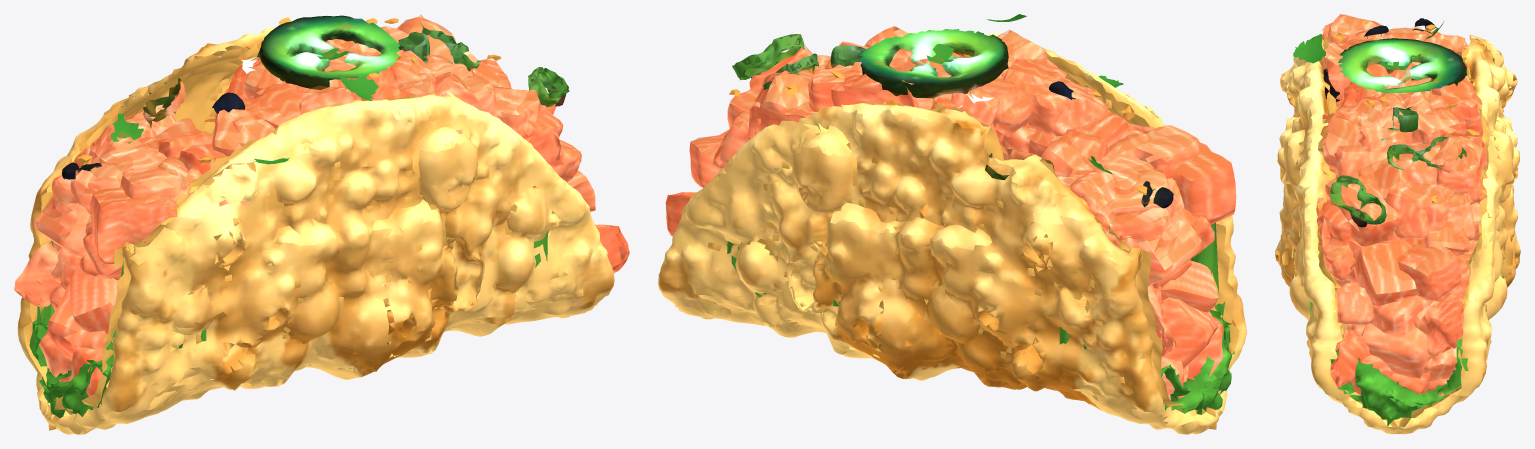
The model's file is tuna_taco.glb.
3 views of the same model, side by side, from view 1: azimuth 30°, elevation 25°; view 2: azimuth 150°, elevation 25°; view 3: azimuth 270°, elevation 25° (orthographic). The views are drawn at different scales.
Visible parts, largest first — view 1: ing_wonton, ing_tuna, ing_toroSauce, ing_jalapeno, ing_scallion, ing_lettuce, ing_coriander, ing_sesame, ing_garlic; view 2: ing_wonton, ing_tuna, ing_toroSauce, ing_jalapeno, ing_lettuce, ing_scallion, ing_sesame, ing_coriander, ing_garlic; view 3: ing_tuna, ing_wonton, ing_toroSauce, ing_jalapeno, ing_lettuce, ing_scallion, ing_coriander, ing_sesame, ing_garlic.
Part boxes in pixels (<box>): ing_wonton: <box>17,27,614,434</box>; ing_tuna: <box>14,17,629,396</box>; ing_toroSauce: <box>39,14,581,268</box>; ing_jalapeno: <box>241,15,399,89</box>; ing_scallion: <box>143,22,569,127</box>; ing_lettuce: <box>29,231,547,417</box>; ing_coriander: <box>111,46,378,164</box>; ing_sesame: <box>62,91,566,179</box>; ing_garlic: <box>77,17,501,165</box>; ing_wonton: <box>658,31,1246,434</box>; ing_tuna: <box>665,26,1236,399</box>; ing_toroSauce: <box>690,26,1230,263</box>; ing_jalapeno: <box>859,29,1008,108</box>; ing_lettuce: <box>727,222,1234,414</box>; ing_scallion: <box>732,34,1054,179</box>; ing_sesame: <box>751,71,1173,208</box>; ing_coriander: <box>926,14,1123,174</box>; ing_garlic: <box>729,69,1147,218</box>; ing_tuna: <box>1316,14,1500,395</box>; ing_wonton: <box>1275,34,1520,434</box>; ing_toroSauce: <box>1316,14,1500,280</box>; ing_jalapeno: <box>1338,38,1466,108</box>; ing_lettuce: <box>1310,263,1486,426</box>; ing_scallion: <box>1330,49,1494,224</box>; ing_coriander: <box>1293,21,1443,69</box>; ing_sesame: <box>1323,18,1436,227</box>; ing_garlic: <box>1330,21,1479,202</box>.
Bounding box in the file's own units: 0.1296 × 0.0759 × 0.0594.
2 materials, 2 textured.
